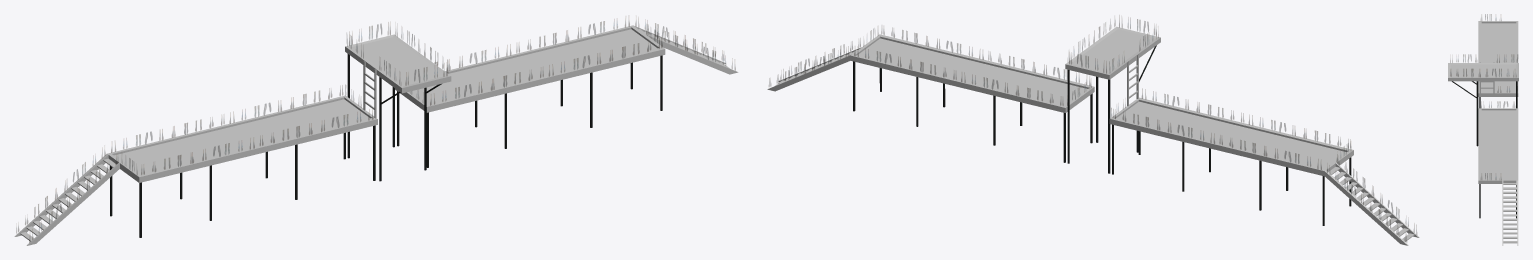
Rendered from Detail-03-b.obj.
3 renders of one model, left to right at view 1: azimuth 30°, elevation 25°; view 2: azimuth 150°, elevation 25°; view 3: azimuth 270°, elevation 25°, orthographic. The views are drawn at different scales.
Visible parts, largest first — view 1: Detail-03; view 2: Detail-03; view 3: Detail-03.
Part boxes in pixels (<box>): Detail-03: <box>14,17,738,245</box>; Detail-03: <box>767,15,1419,245</box>; Detail-03: <box>1448,14,1518,245</box>.
Size of the model in its own units: 51.25 by 8.63 by 7.11.
